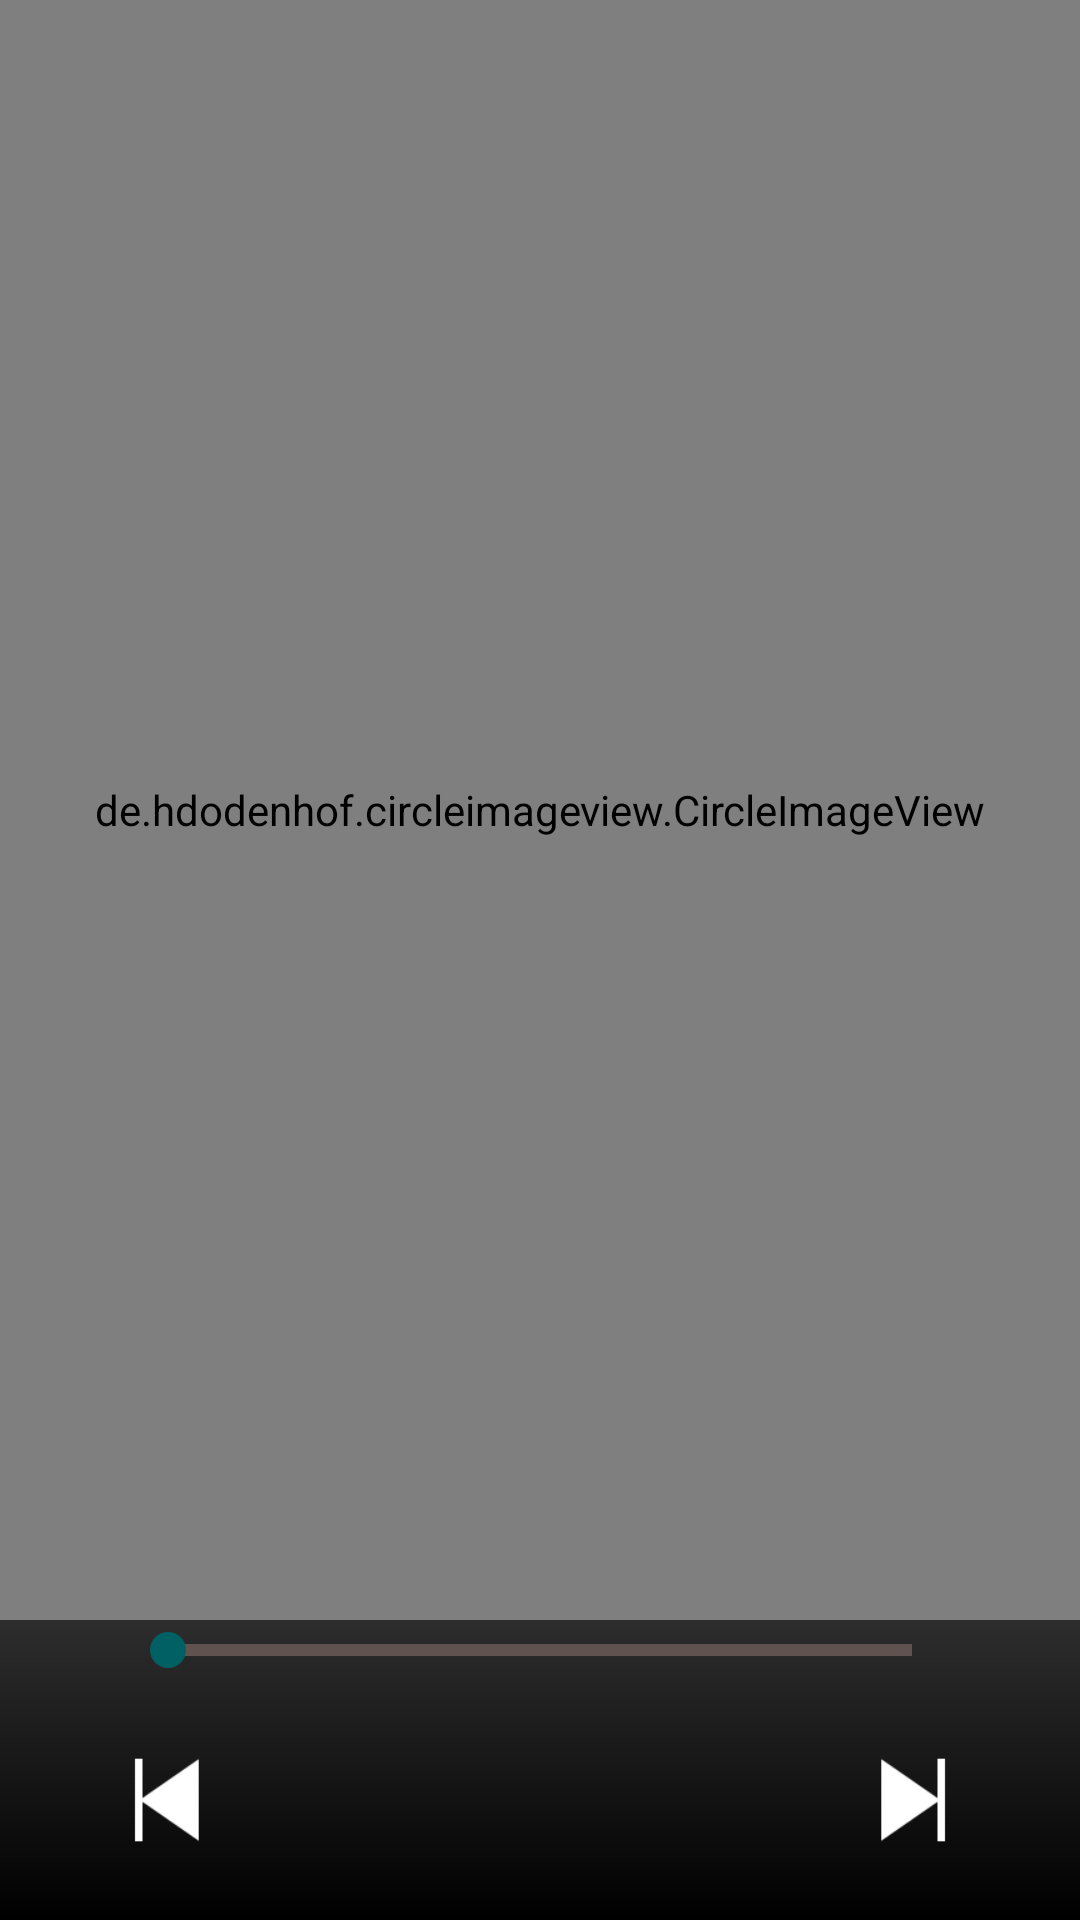

Where to tap for icons on this 1080*1920 app screen, as [x,y]:
next: [913,1800]
previous: [166,1800]
